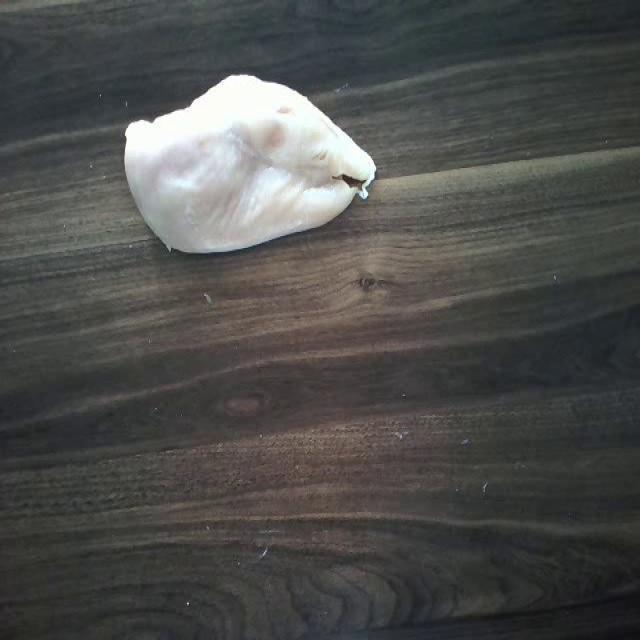breast: (110, 67, 390, 276)
